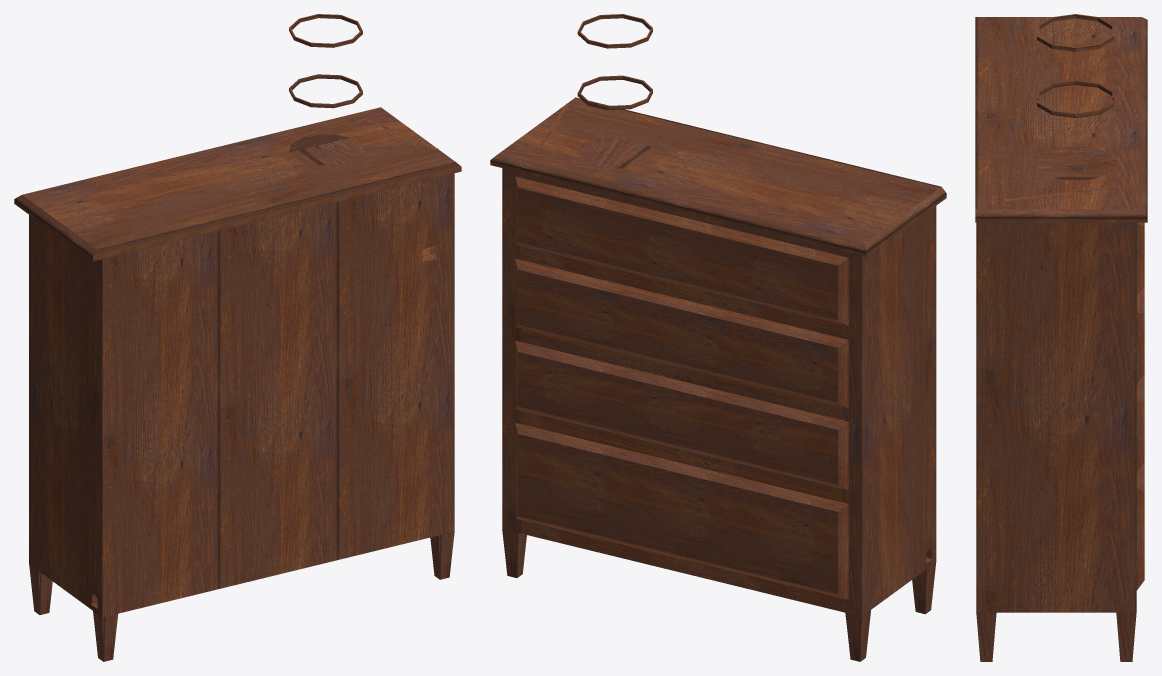
Rendered from wood1.obj.
3 views of the same model, side by side, from view 1: azimuth 30°, elevation 25°; view 2: azimuth 150°, elevation 25°; view 3: azimuth 270°, elevation 25° (orthographic). The views are drawn at different scales.
Visible parts, largest first — view 1: bedroom#2.005_Mesh.004; view 2: bedroom#2.005_Mesh.004; view 3: bedroom#2.005_Mesh.004.
Part boxes in pixels (x1=…): bedroom#2.005_Mesh.004: x1=14, y1=14, x2=461, y2=661; bedroom#2.005_Mesh.004: x1=490, y1=14, x2=946, y2=661; bedroom#2.005_Mesh.004: x1=975, y1=14, x2=1147, y2=661.
Size of the model in its own units: 4.96 by 6.89 by 1.83.
